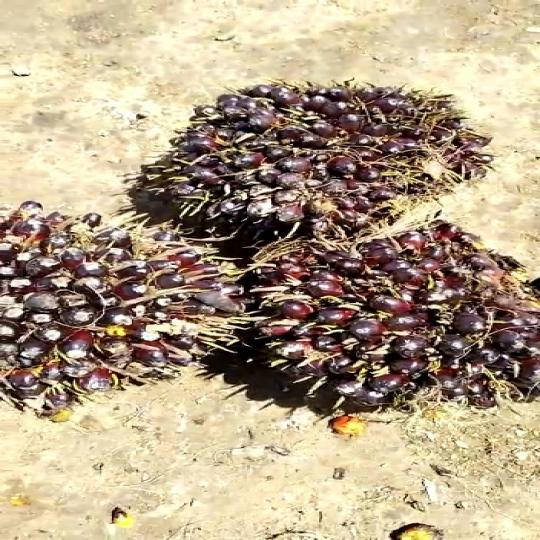mentah: (111, 58, 501, 241), (1, 188, 260, 414), (243, 220, 540, 410)
